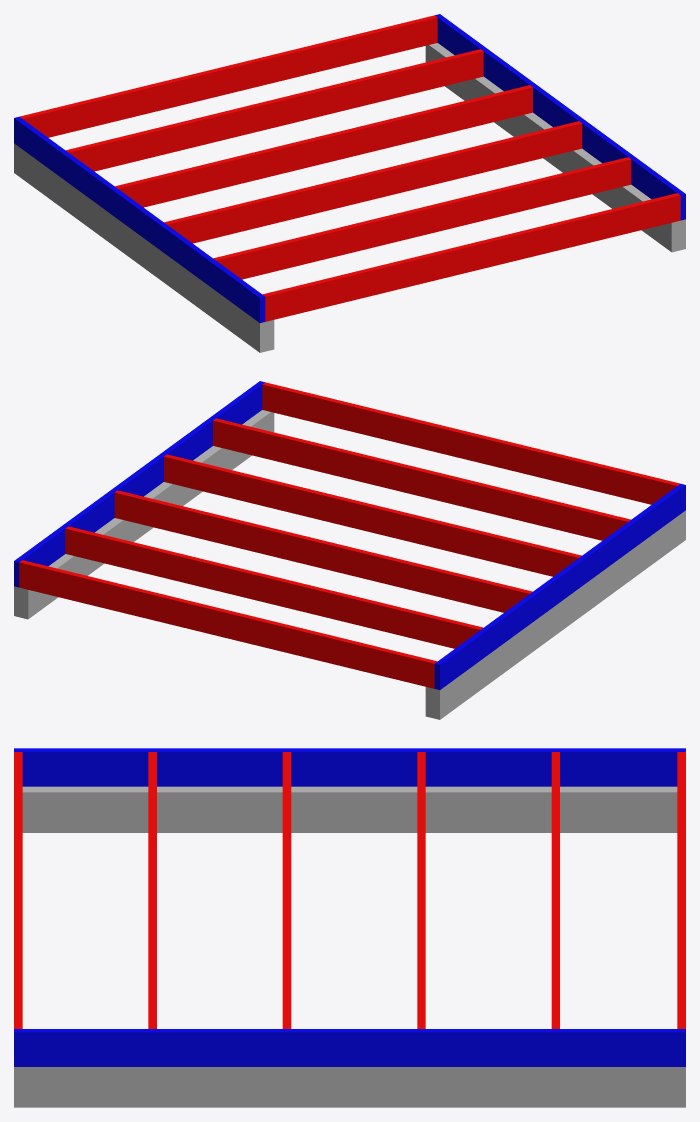
The model's file is result.glb.
The picture shows the model from 3 angles, top to bottom: view 1: azimuth 30°, elevation 25°; view 2: azimuth 150°, elevation 25°; view 3: azimuth 270°, elevation 25°; orthographic projection. The views are drawn at different scales.
Parts seen in each view (by area): view 1: f65d1ba1-20c7-4881-b138-2aba9b0e037c__Box, ea3d5103-544a-46b6-842f-96ca619472e5__undefined, a0a807be-108b-4e2a-96a0-954614ea2dbe__undefined, 0928b764-90cb-40ca-8632-e0134a9a7241__undefined, fbd82d89-c4c9-443c-9fe8-360a4b863c06__undefined, 365cb7bf-b1b6-41cb-bd35-bd794a7687d4__undefined, df3153f6-9d64-4417-bb3c-bd8ebadbd308__Box_2, 8835025c-d4dd-4be9-90a8-ff6c4761d1d4__Box_1, f28839e1-1e73-4ec9-8789-74622f6ad3a4__undefined, 4edc0129-dcdb-4a88-9aa2-7854698902e3__undefined; view 2: 0928b764-90cb-40ca-8632-e0134a9a7241__undefined, 365cb7bf-b1b6-41cb-bd35-bd794a7687d4__undefined, fbd82d89-c4c9-443c-9fe8-360a4b863c06__undefined, f65d1ba1-20c7-4881-b138-2aba9b0e037c__Box, a0a807be-108b-4e2a-96a0-954614ea2dbe__undefined, ea3d5103-544a-46b6-842f-96ca619472e5__undefined, df3153f6-9d64-4417-bb3c-bd8ebadbd308__Box_2, 8835025c-d4dd-4be9-90a8-ff6c4761d1d4__Box_1, f28839e1-1e73-4ec9-8789-74622f6ad3a4__undefined, 4edc0129-dcdb-4a88-9aa2-7854698902e3__undefined; view 3: df3153f6-9d64-4417-bb3c-bd8ebadbd308__Box_2, 4edc0129-dcdb-4a88-9aa2-7854698902e3__undefined, f28839e1-1e73-4ec9-8789-74622f6ad3a4__undefined, 8835025c-d4dd-4be9-90a8-ff6c4761d1d4__Box_1, ea3d5103-544a-46b6-842f-96ca619472e5__undefined, f65d1ba1-20c7-4881-b138-2aba9b0e037c__Box, a0a807be-108b-4e2a-96a0-954614ea2dbe__undefined, 365cb7bf-b1b6-41cb-bd35-bd794a7687d4__undefined, fbd82d89-c4c9-443c-9fe8-360a4b863c06__undefined, 0928b764-90cb-40ca-8632-e0134a9a7241__undefined.
Part boxes in pixels (x1,y1,x2,y2): f65d1ba1-20c7-4881-b138-2aba9b0e037c__Box: (262,193,680,321); ea3d5103-544a-46b6-842f-96ca619472e5__undefined: (164,121,582,243); a0a807be-108b-4e2a-96a0-954614ea2dbe__undefined: (213,157,631,279); 0928b764-90cb-40ca-8632-e0134a9a7241__undefined: (20,15,437,137); fbd82d89-c4c9-443c-9fe8-360a4b863c06__undefined: (66,49,483,171); 365cb7bf-b1b6-41cb-bd35-bd794a7687d4__undefined: (115,85,532,207); df3153f6-9d64-4417-bb3c-bd8ebadbd308__Box_2: (14,143,274,352); 8835025c-d4dd-4be9-90a8-ff6c4761d1d4__Box_1: (14,116,265,322); f28839e1-1e73-4ec9-8789-74622f6ad3a4__undefined: (435,14,685,220); 4edc0129-dcdb-4a88-9aa2-7854698902e3__undefined: (425,43,685,252); 0928b764-90cb-40ca-8632-e0134a9a7241__undefined: (19,560,437,688); 365cb7bf-b1b6-41cb-bd35-bd794a7687d4__undefined: (114,490,532,612); fbd82d89-c4c9-443c-9fe8-360a4b863c06__undefined: (65,526,483,648); f65d1ba1-20c7-4881-b138-2aba9b0e037c__Box: (262,382,679,504); a0a807be-108b-4e2a-96a0-954614ea2dbe__undefined: (213,418,630,540); ea3d5103-544a-46b6-842f-96ca619472e5__undefined: (164,454,581,576); df3153f6-9d64-4417-bb3c-bd8ebadbd308__Box_2: (425,510,685,719); 8835025c-d4dd-4be9-90a8-ff6c4761d1d4__Box_1: (434,483,685,689); f28839e1-1e73-4ec9-8789-74622f6ad3a4__undefined: (14,381,264,587); 4edc0129-dcdb-4a88-9aa2-7854698902e3__undefined: (14,410,274,619); df3153f6-9d64-4417-bb3c-bd8ebadbd308__Box_2: (22,786,677,832); 4edc0129-dcdb-4a88-9aa2-7854698902e3__undefined: (14,1067,685,1107); f28839e1-1e73-4ec9-8789-74622f6ad3a4__undefined: (14,1029,685,1066); 8835025c-d4dd-4be9-90a8-ff6c4761d1d4__Box_1: (14,748,685,786); ea3d5103-544a-46b6-842f-96ca619472e5__undefined: (282,752,291,1028); f65d1ba1-20c7-4881-b138-2aba9b0e037c__Box: (14,752,22,1028); a0a807be-108b-4e2a-96a0-954614ea2dbe__undefined: (148,752,156,1028); 365cb7bf-b1b6-41cb-bd35-bd794a7687d4__undefined: (417,752,425,1028); fbd82d89-c4c9-443c-9fe8-360a4b863c06__undefined: (551,752,559,1028); 0928b764-90cb-40ca-8632-e0134a9a7241__undefined: (677,752,685,1028).
Bounding box in the file's own units: 3000 × 370 × 3000.
